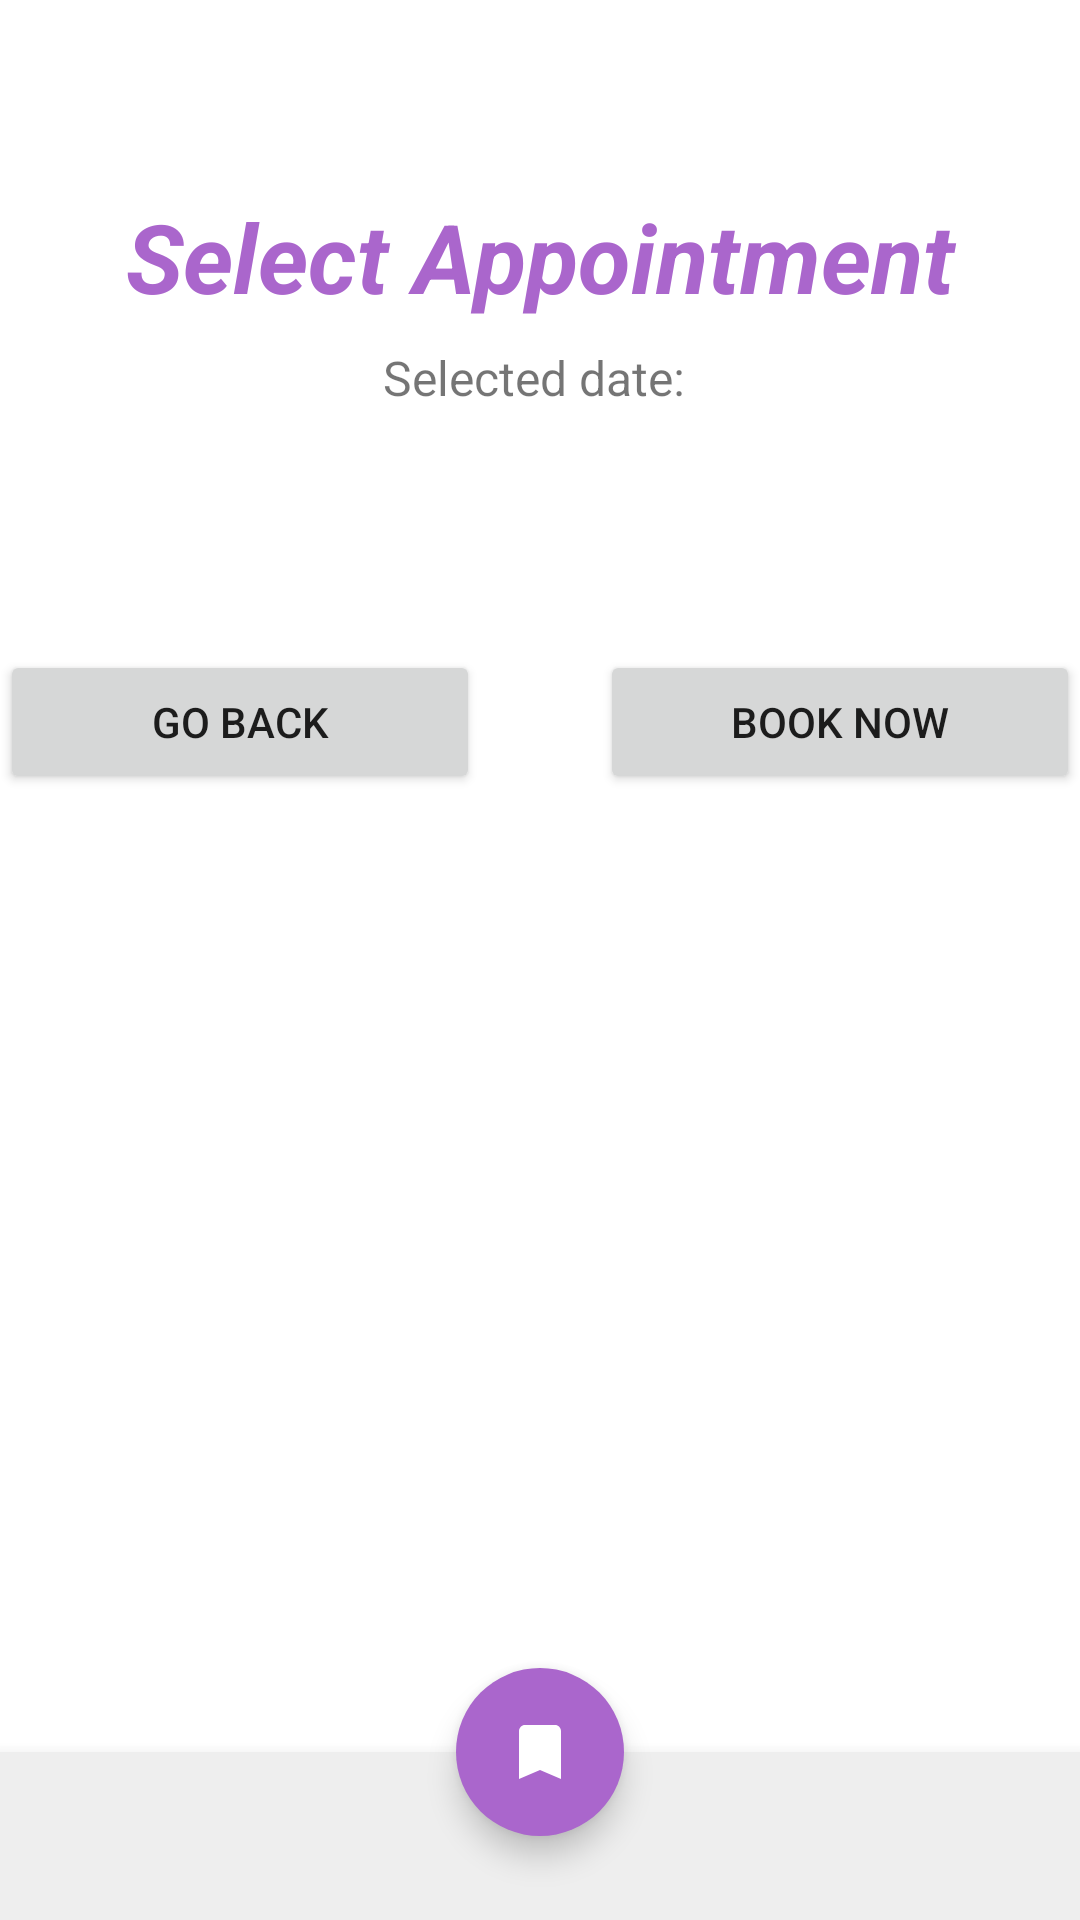

Icons on this 1080x1920 Android screen, each with the point to tap as (x=x, y=y):
bookings: (x=540, y=1752)
